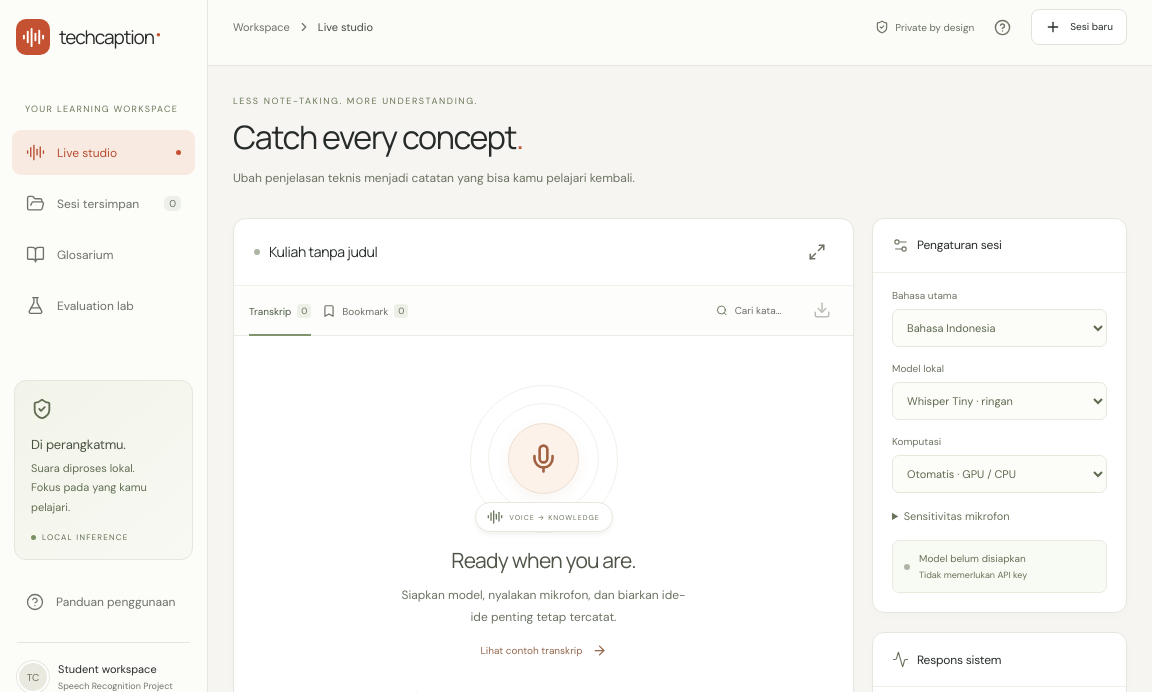
it: student workflows (UI fixture, not real ASR) › opens labelled demo, bookmarks, stores notes and reopens session
The image size is (1152, 692).
Click the button "Lihat contoh transkrip": (544,651) x1=480 y1=638 x2=606 y2=663
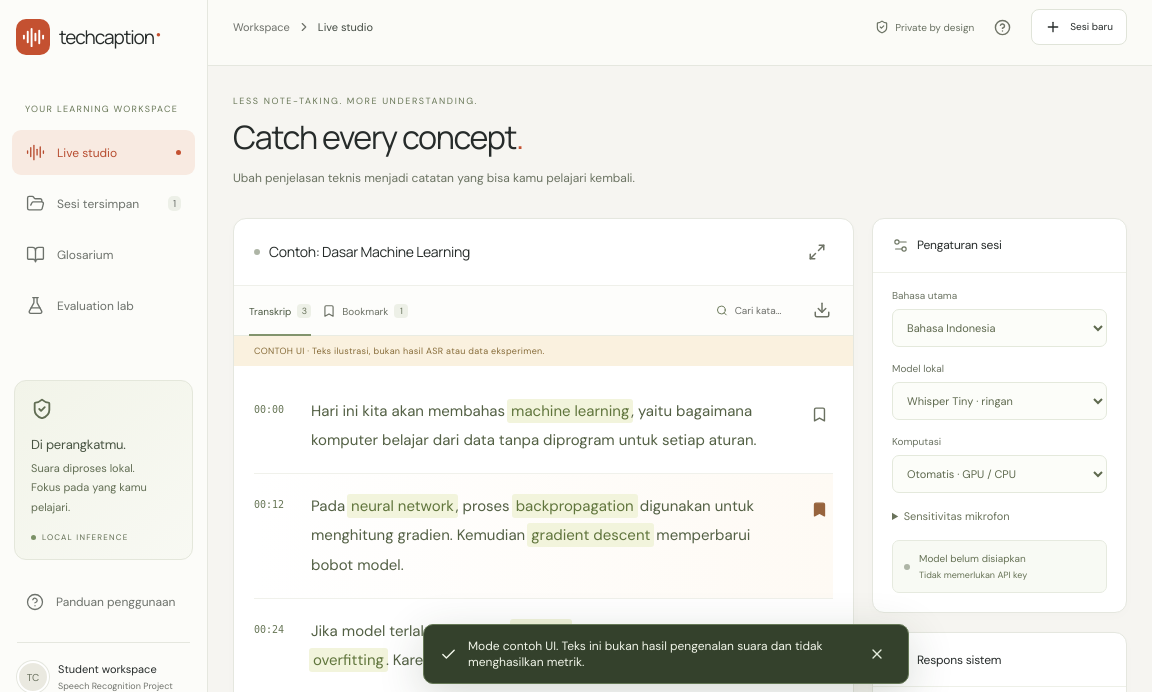
expect the text "CONTOH UI · Teks ilustrasi" is shown: met, box x1=254 y1=345 x2=545 y2=357
Click the button named "Bookmark 00:00": (818,414) x1=804 y1=399 x2=833 y2=430
(page scrolled)
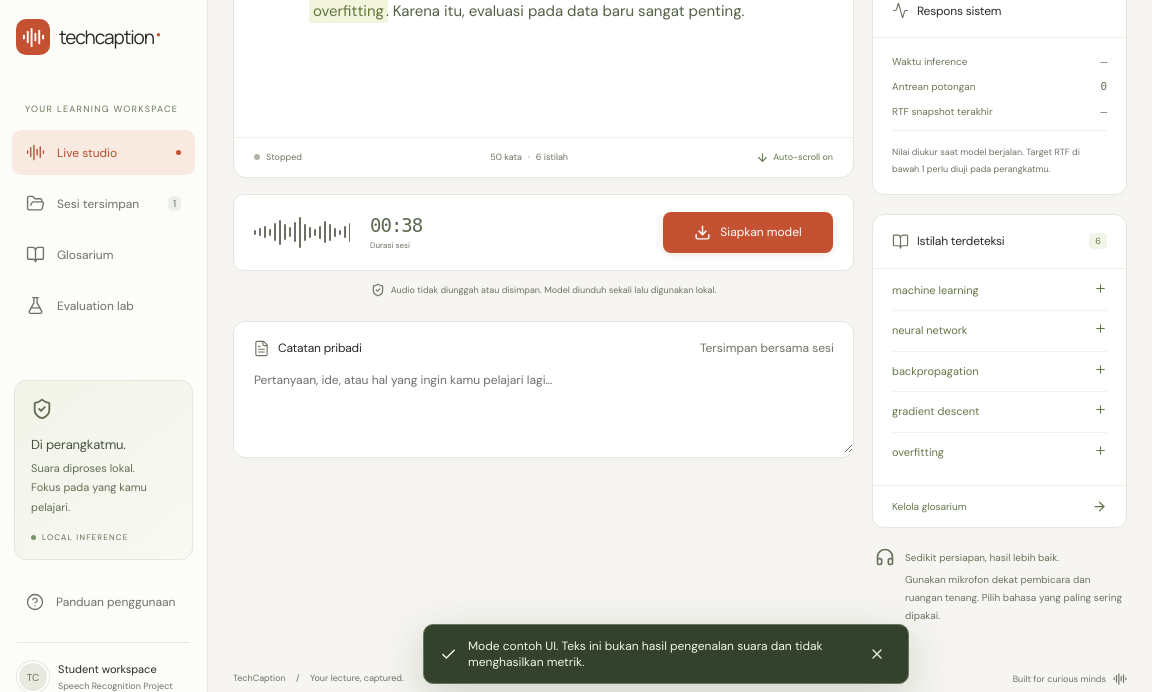
In the text box named "Catatan pribadi": (544,408) x1=234 y1=363 x2=853 y2=453, type "Tanya dosen tentang gradien."
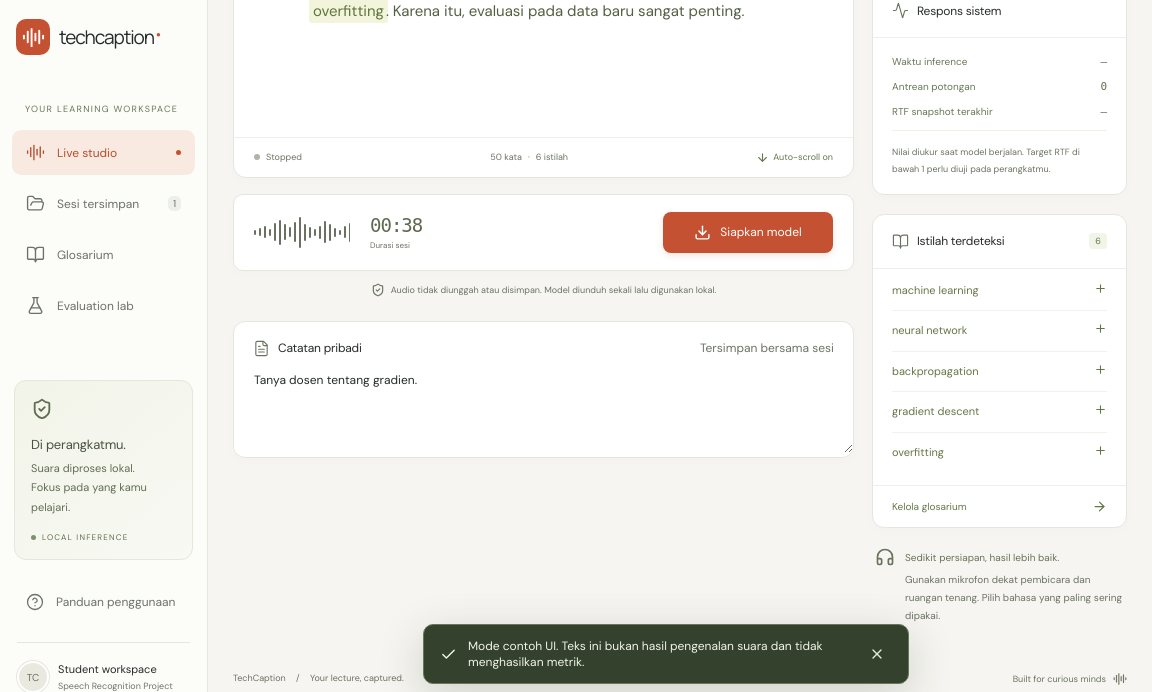
Click the button "Sesi tersimpan 1": (104,204) x1=12 y1=181 x2=195 y2=226
(page scrolled)
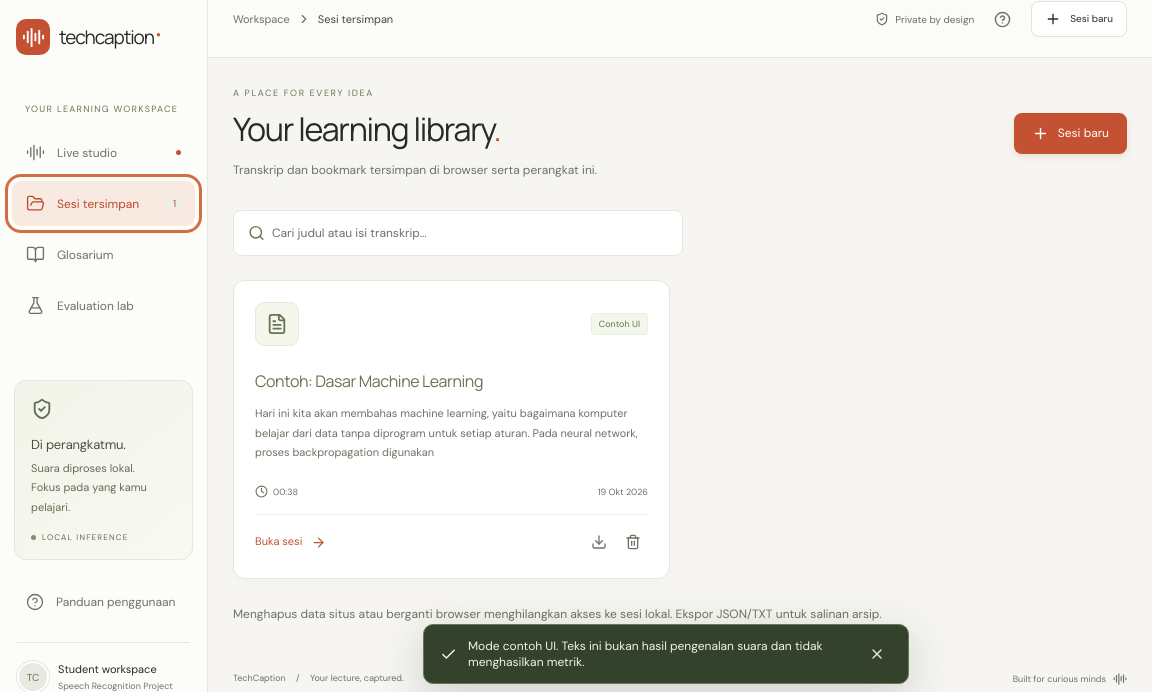
expect the button "Buka sesi" is shown: met
Click the button "Buka sesi": (291,542) x1=255 y1=527 x2=326 y2=557
(page scrolled)
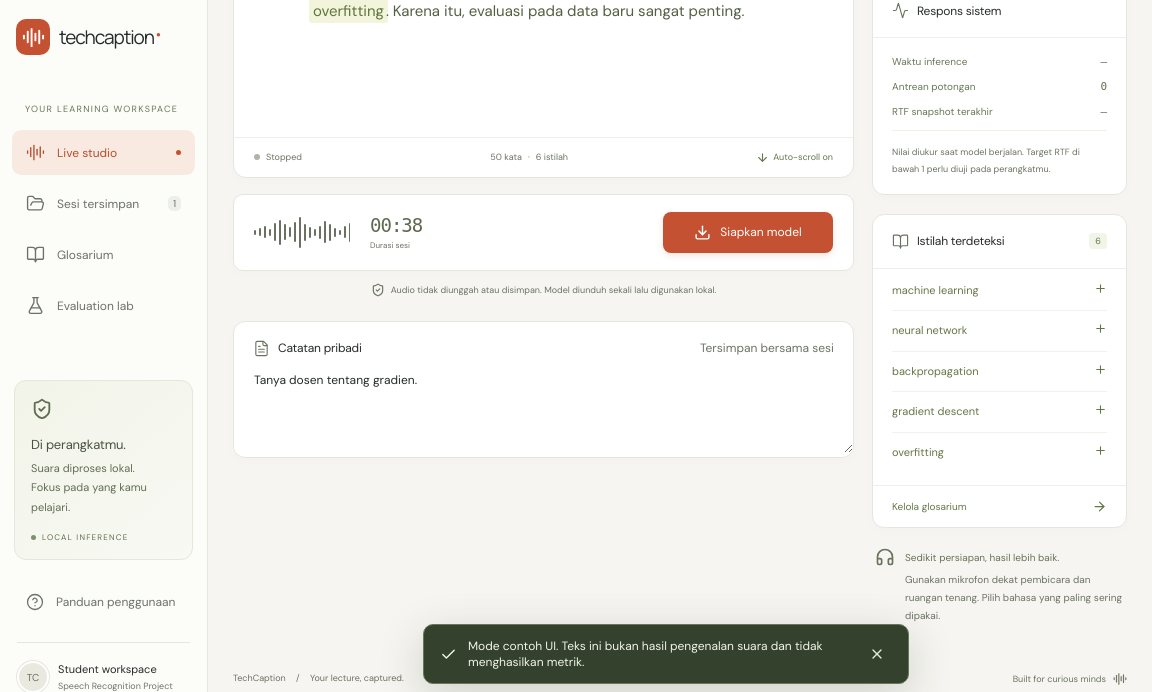
expect the text box named "Catatan pribadi" holds "Tanya dosen tentang gradien.": met, box x1=234 y1=363 x2=853 y2=453
